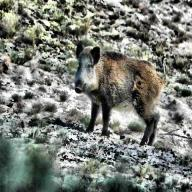boar: (56, 34, 188, 149)
